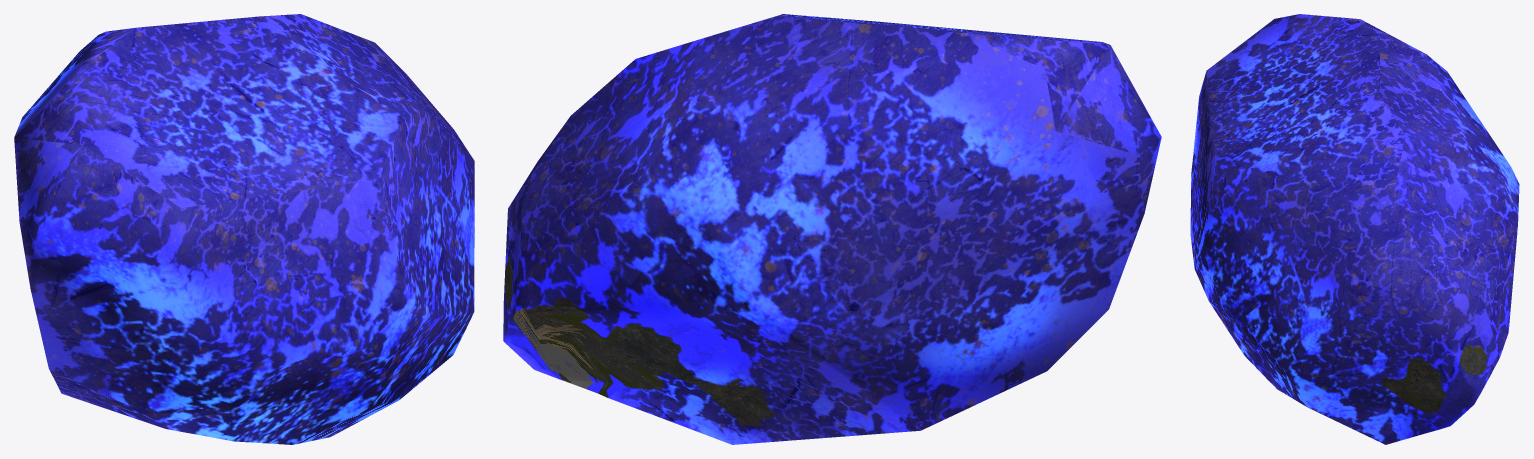
File: crystalAsteroidLow.fbx
3 views of the same model, side by side, from view 1: azimuth 30°, elevation 25°; view 2: azimuth 150°, elevation 25°; view 3: azimuth 270°, elevation 25° (orthographic). The views are drawn at different scales.
Visible parts, largest first — view 1: lod1; view 2: lod1; view 3: lod1.
Boxes of the visible parts, box(x1,y1,x2,y2) form: lod1: box(14, 14, 474, 444); lod1: box(503, 14, 1161, 444); lod1: box(1190, 14, 1519, 444).
Bounding box in the file's own units: 52.01 × 42.32 × 38.57.
